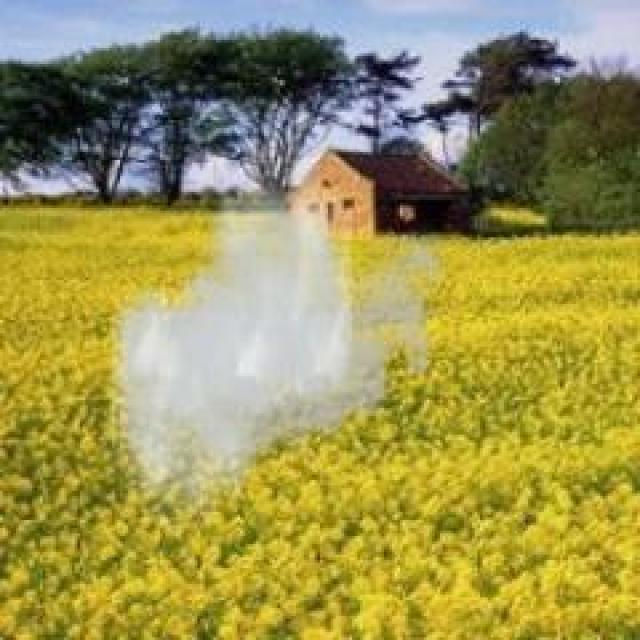smoke: (110, 160, 454, 528)
